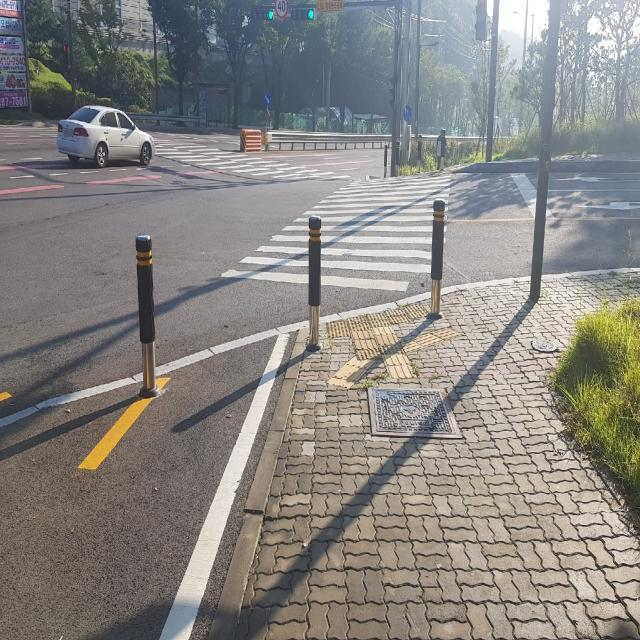횡단보도: (221, 176, 451, 292), (155, 135, 327, 180)
